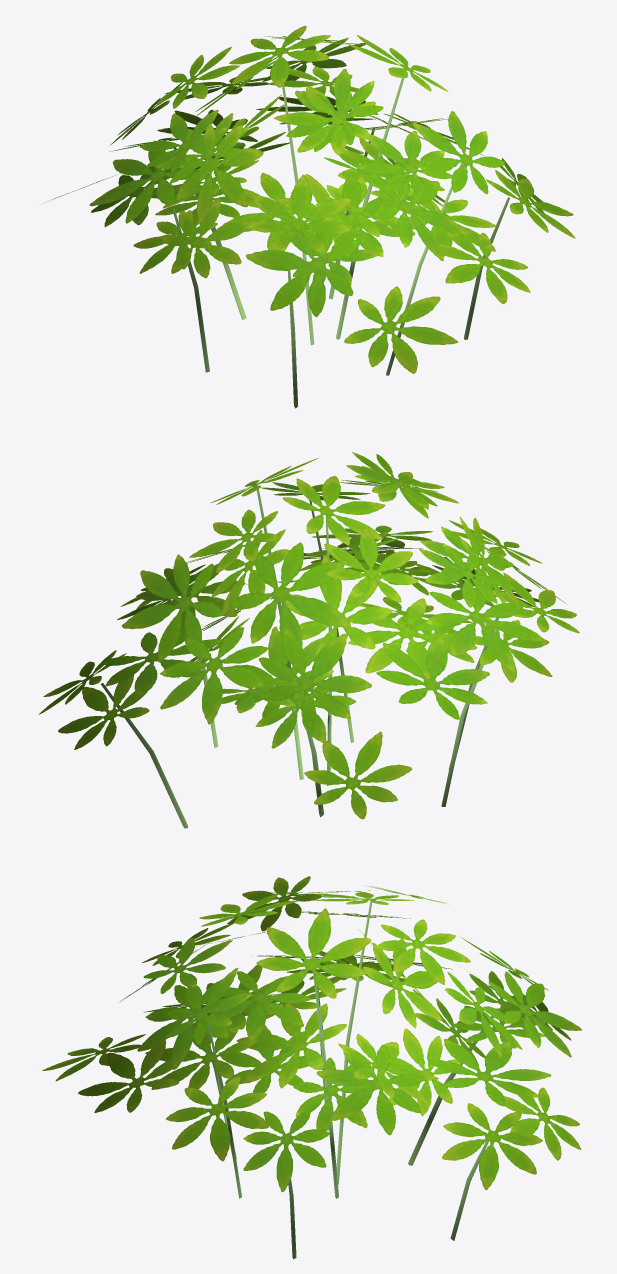
File: P_BushTropical01.obj
3 views of the same model, one above another, from view 1: azimuth 30°, elevation 25°; view 2: azimuth 150°, elevation 25°; view 3: azimuth 270°, elevation 25° (orthographic). The views are drawn at different scales.
Size of the model in its own units: 2.19 by 1.48 by 2.5.
